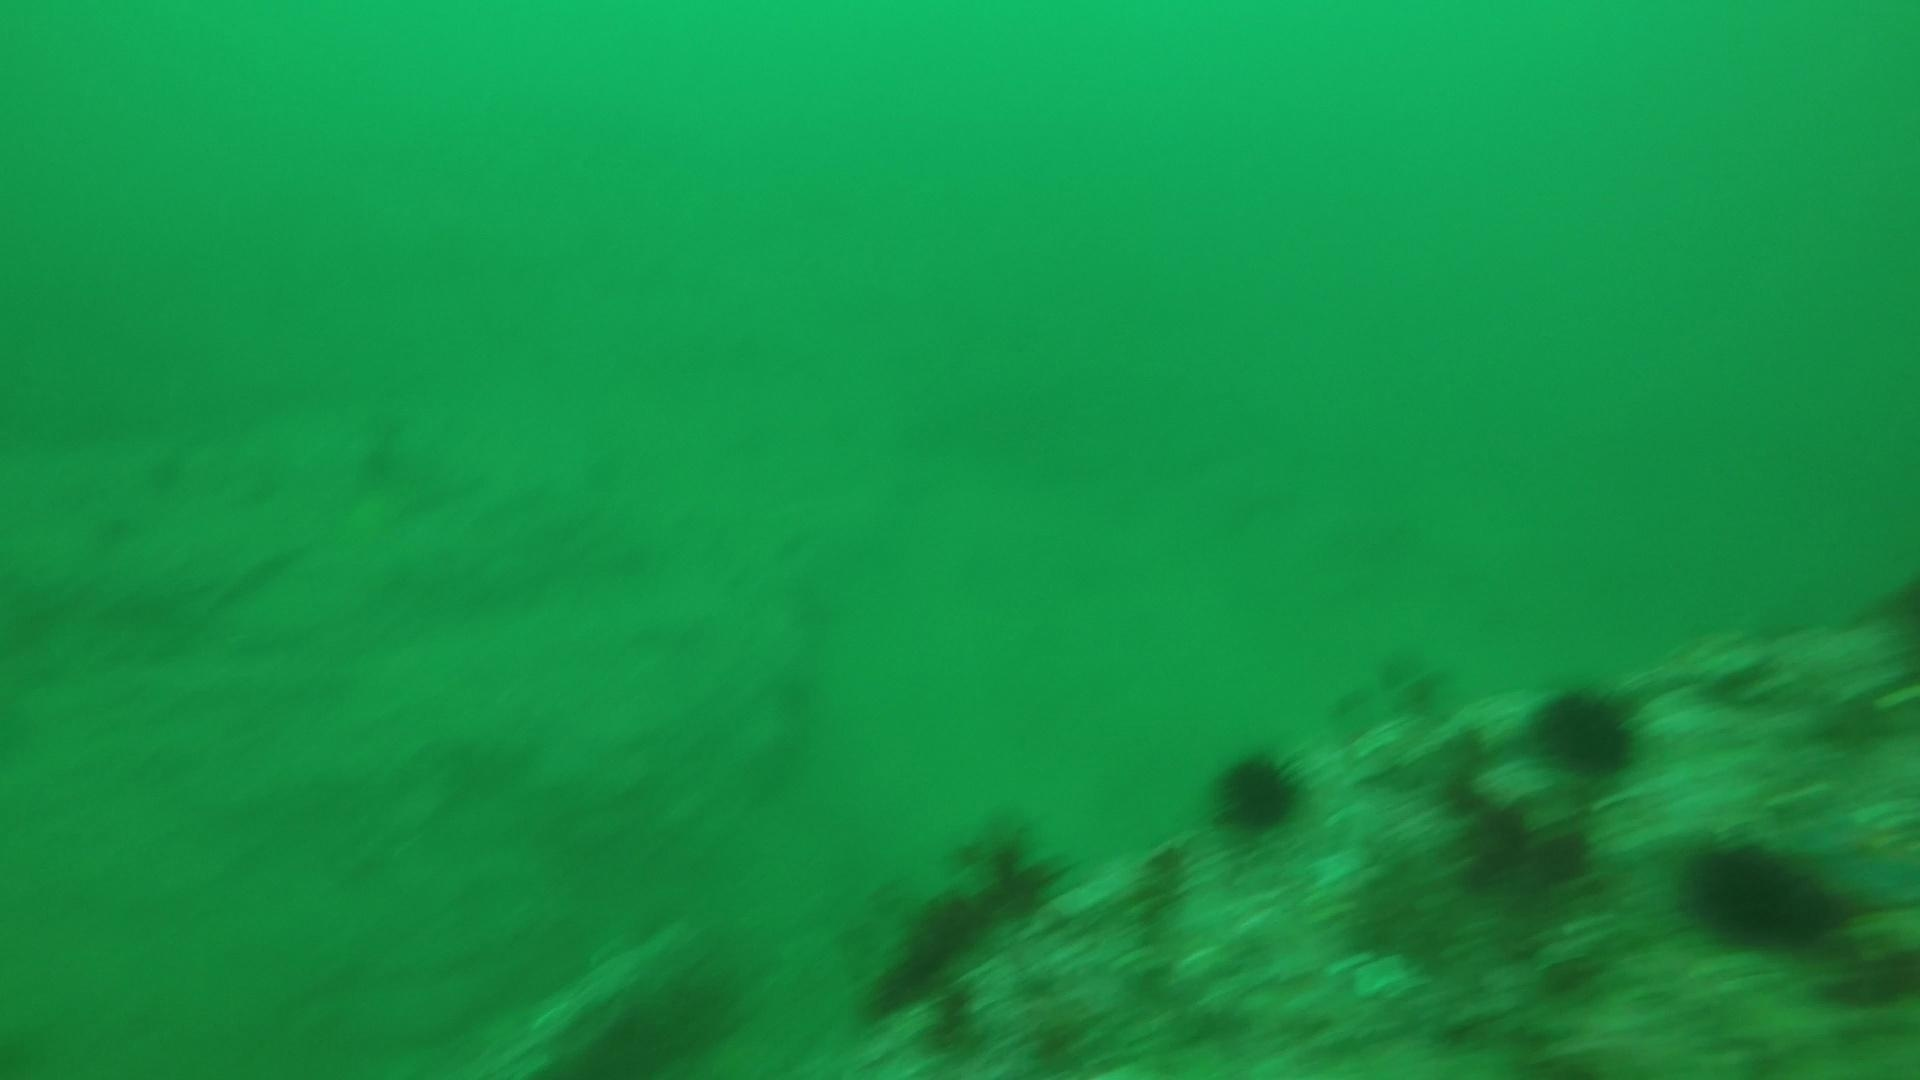echinus: (1677, 833, 1846, 953), (1524, 676, 1648, 781), (1205, 742, 1309, 837)
